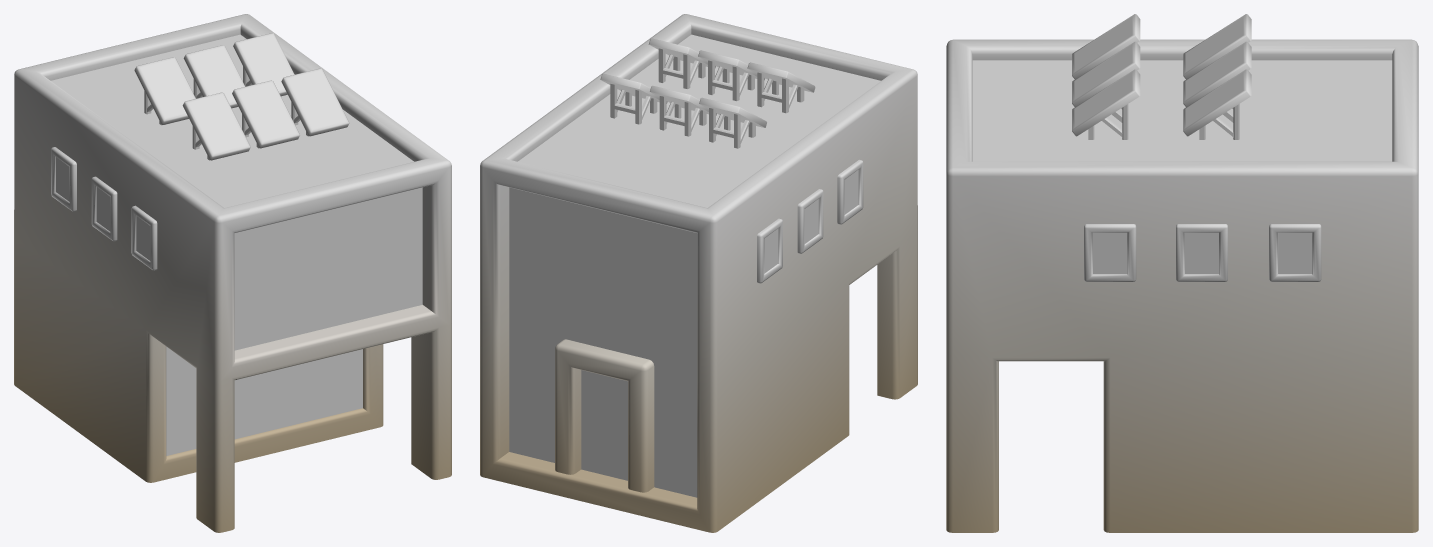
The model's file is NF_Bld_House 08.fbx.
3 views of the same model, side by side, from view 1: azimuth 30°, elevation 25°; view 2: azimuth 150°, elevation 25°; view 3: azimuth 270°, elevation 25° (orthographic). The views are drawn at different scales.
Visible parts, largest first — view 1: House_08; view 2: House_08; view 3: House_08.
Part boxes in pixels (<box>): House_08: <box>14,14,451,532</box>; House_08: <box>480,14,917,532</box>; House_08: <box>946,14,1418,532</box>.
Size of the model in its own units: 6.21 by 8.71 by 9.
